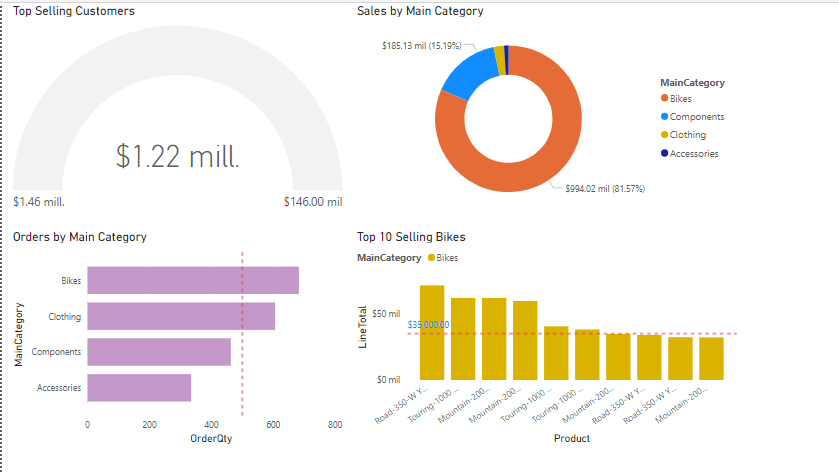

What the dashboard file says about the page in this screenshot:
{"tool":"powerbi","page":{"name":"Página 1","canvas":[1280,720],"ordinal":0},"visuals":[{"type":"gauge","title":"Top Selling Customers","fields":{"Y":["Sum(Sales.LineTotal)"],"MinValue":["Sales.TargetSales"]},"box":[10.1,0,463.6,300.7],"z":1},{"type":"barChart","title":"Orders by Main Category","fields":{"Category":["Sales.MainCategory"],"Y":["Sum(Sales.OrderQty)"]},"box":[10,311,464,301],"z":2},{"type":"donutChart","title":"Sales by Main Category","fields":{"Category":["Sales.MainCategory"],"Y":["Sum(Sales.LineTotal)"]},"box":[483.2,0,532.8,300.1],"z":3},{"type":"columnChart","title":"Top 10 Selling Bikes","fields":{"Category":["Sales.Product"],"Y":["Sum(Sales.LineTotal)"],"Series":["Sales.MainCategory"]},"box":[483,311,533,301],"z":4}]}

Visuals, with their boxes in screenshot pixels (x1, y1, x2, y2), scaled from the page's 1280x720 canvas onto the 839x473 screenshot:
"Top Selling Customers" gauge: 7/0/310/198
"Orders by Main Category" barChart: 7/204/311/402
"Sales by Main Category" donutChart: 317/0/666/197
"Top 10 Selling Bikes" columnChart: 317/204/666/402
